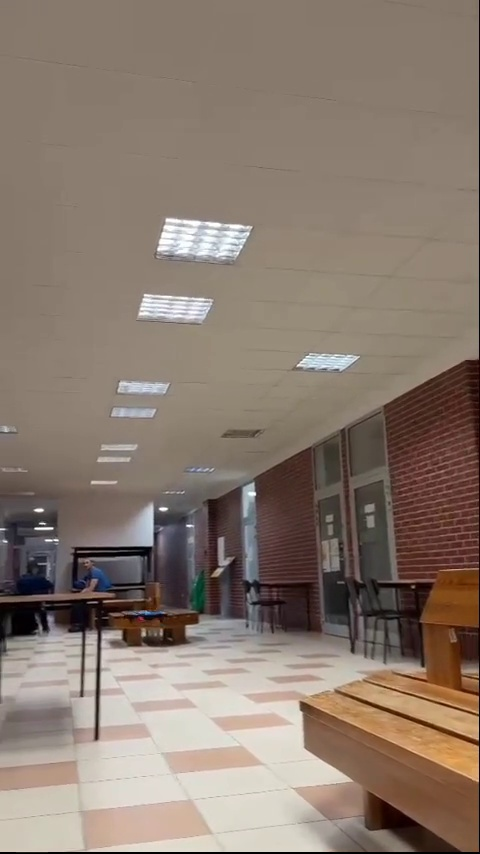drone: (128, 605, 167, 625)
no vest: (75, 551, 114, 599)
